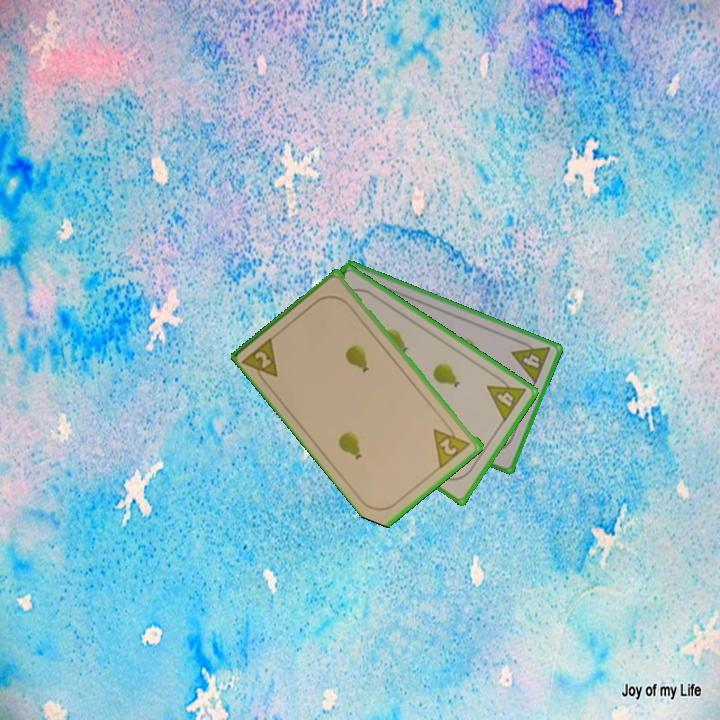2p: (430, 418, 475, 470), (240, 333, 281, 388)
4p: (483, 371, 529, 425), (508, 335, 554, 387)
